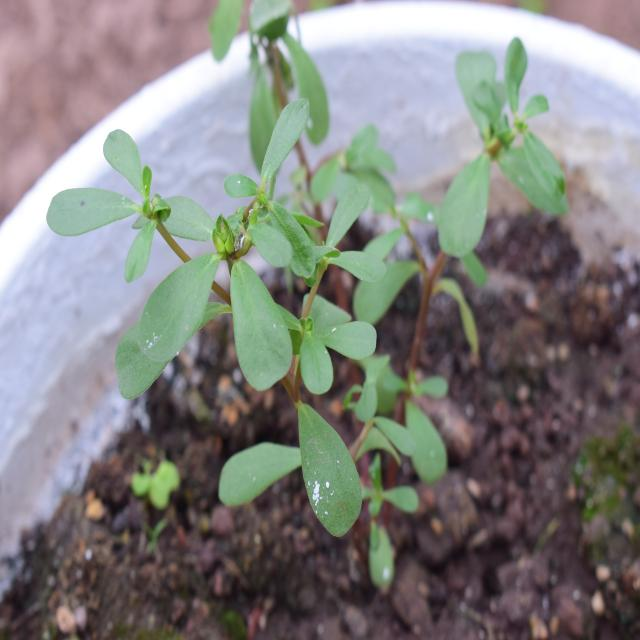purslane: (46, 113, 462, 572), (364, 28, 580, 304)
